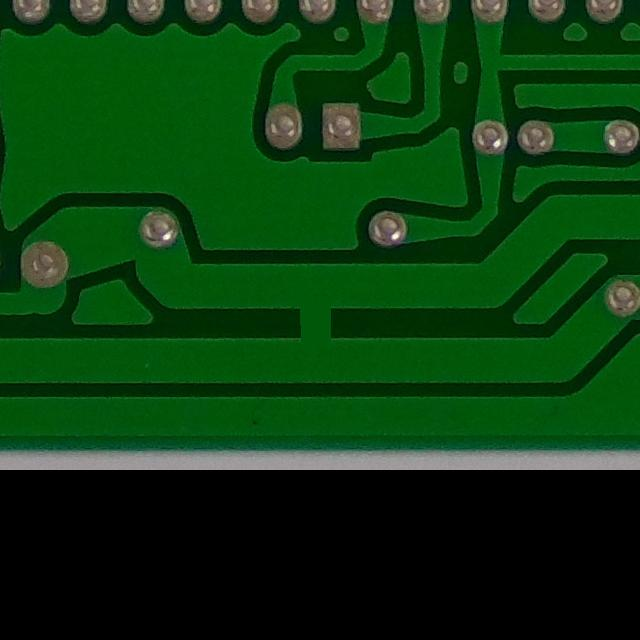short: (281, 281, 359, 359)
